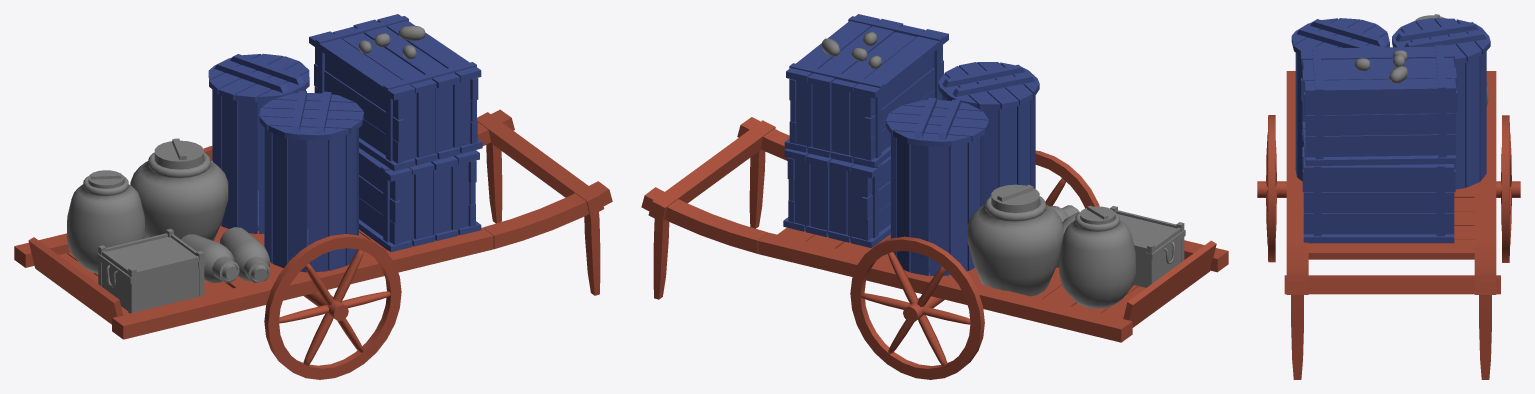
The model's file is SM_cart_wares_02.fbx.
The picture shows the model from 3 angles, left to right: view 1: azimuth 30°, elevation 25°; view 2: azimuth 150°, elevation 25°; view 3: azimuth 270°, elevation 25°; orthographic projection. The views are drawn at different scales.
Visible parts, largest first — view 1: Object32432; view 2: Object32432; view 3: Object32432.
Part boxes in pixels (x1,y1,x2,y2): Object32432: [14, 14, 612, 379]; Object32432: [641, 14, 1228, 379]; Object32432: [1257, 14, 1520, 379].
Size of the model in its own units: 162 by 84.14 by 78.67.
